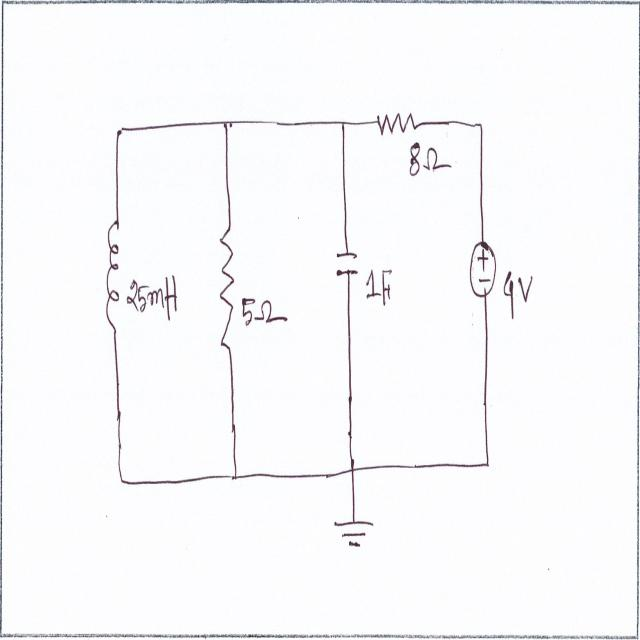capacitor: (333, 245, 360, 284)
ground: (331, 513, 380, 554)
inductor: (104, 213, 125, 329)
resistor: (216, 222, 236, 351), (374, 109, 417, 139)
voltage_source: (467, 238, 501, 299)
